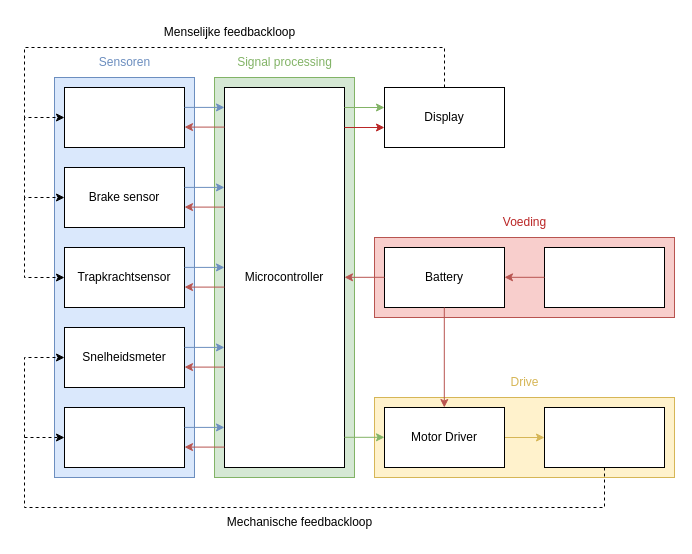
Image size: 692x554. Some labels were removed from this diagram. Each missing label, with the box of its shape:
Battery charger: (544, 246, 664, 308)
Motor: (544, 406, 664, 468)
Rotor positie: (64, 406, 184, 468)
Trottle: (64, 86, 184, 148)
